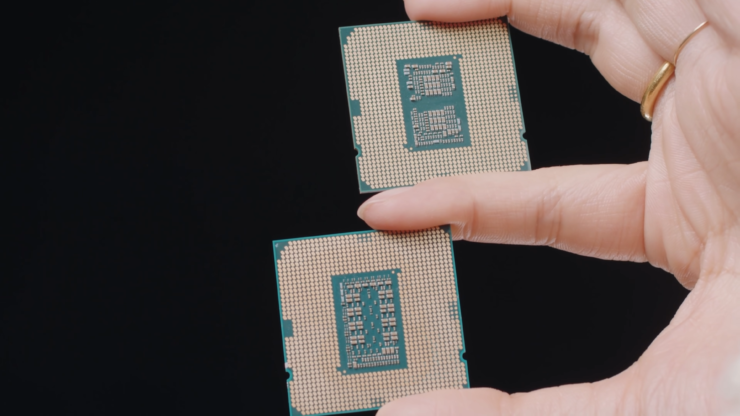processor: (272, 224, 470, 416), (337, 18, 534, 195)
